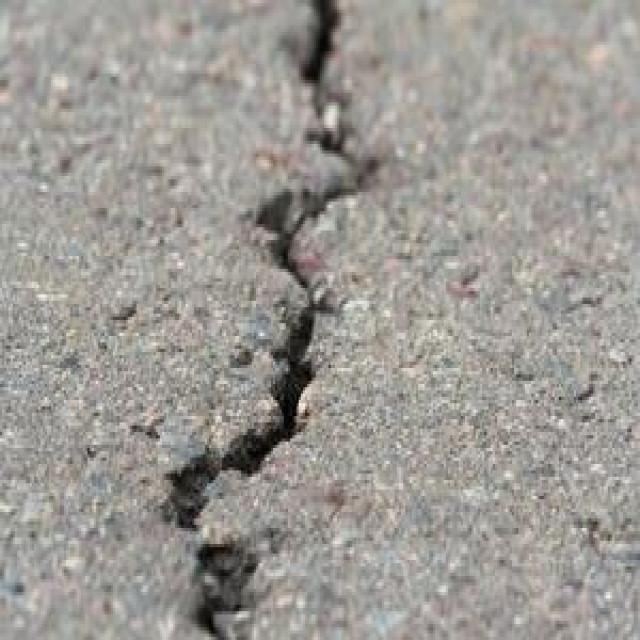road collapse: (127, 0, 408, 640)
